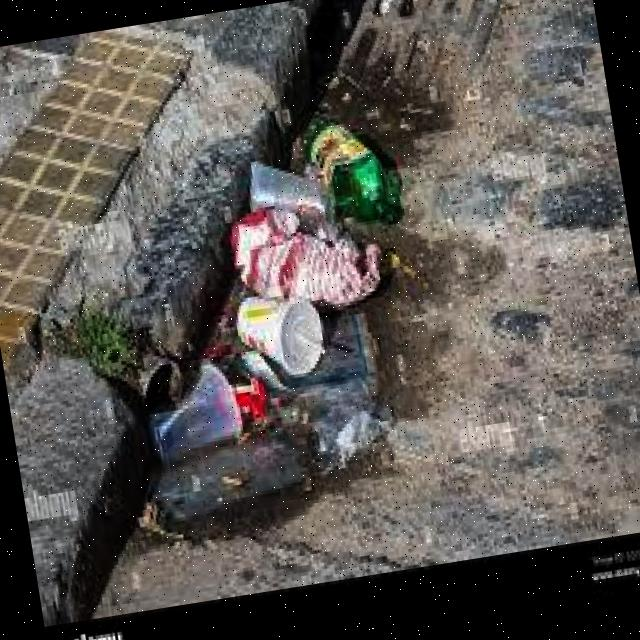curb: (5, 1, 370, 627)
